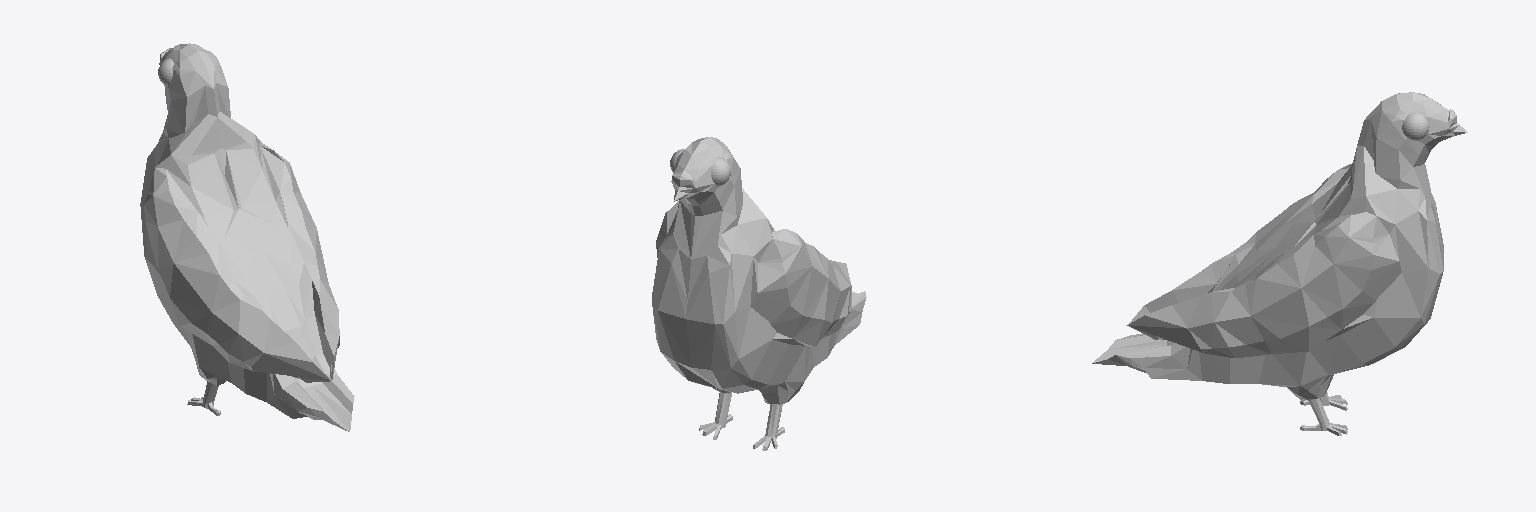
The model's file is StapleV2.obj.
3 renders of one model, left to right at view 1: azimuth 30°, elevation 25°; view 2: azimuth 150°, elevation 25°; view 3: azimuth 270°, elevation 25°, orthographic.
Visible parts, largest first — view 1: Plane_Plane.001; view 2: Plane_Plane.001; view 3: Plane_Plane.001.
Part boxes in pixels (left/top/right/bottom): Plane_Plane.001: left=140, top=43, right=354, bottom=431; Plane_Plane.001: left=652, top=137, right=866, bottom=450; Plane_Plane.001: left=1092, top=92, right=1467, bottom=435.
Size of the model in its own units: 1.63 by 3.58 by 3.73.